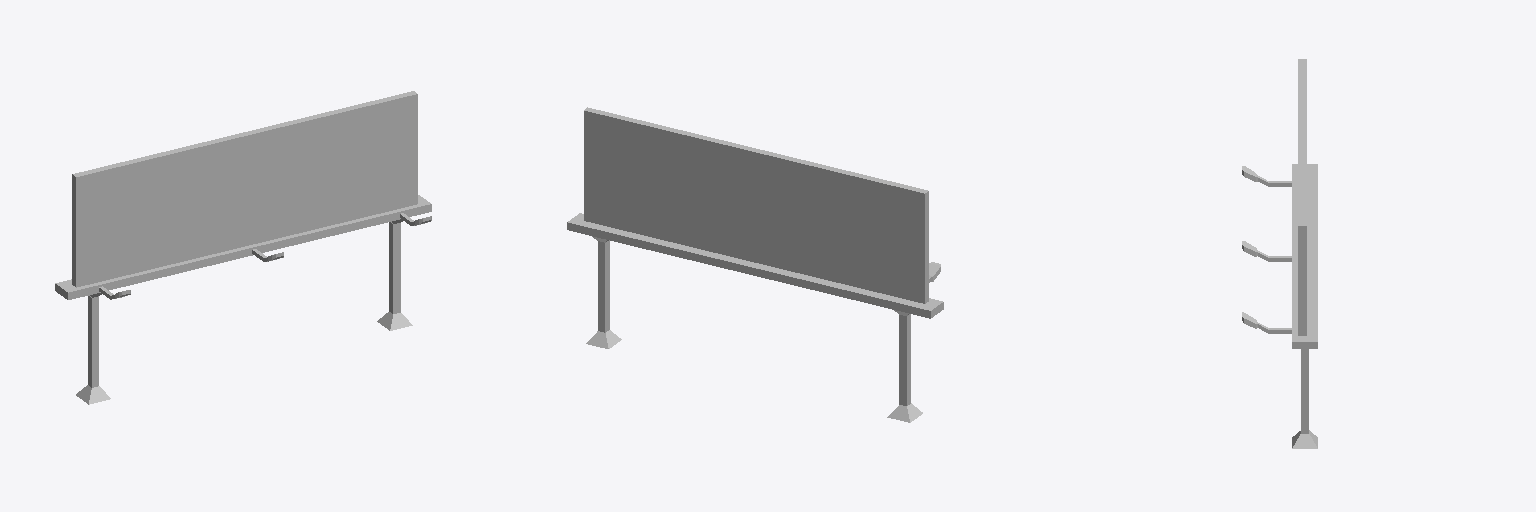
Rendered from Props_BillBoard_large.obj.
The picture shows the model from 3 angles: view 1: azimuth 30°, elevation 25°; view 2: azimuth 150°, elevation 25°; view 3: azimuth 270°, elevation 25°; orthographic projection.
Visible parts, largest first — view 1: Props_BillBoard_large; view 2: Props_BillBoard_large; view 3: Props_BillBoard_large.
Boxes of the visible parts, x1=… form: Props_BillBoard_large: x1=55, y1=91, x2=431, y2=404; Props_BillBoard_large: x1=567, y1=107, x2=943, y2=422; Props_BillBoard_large: x1=1242, y1=59, x2=1317, y2=448.
Bounding box in the file's own units: 340 × 203 × 62.35.